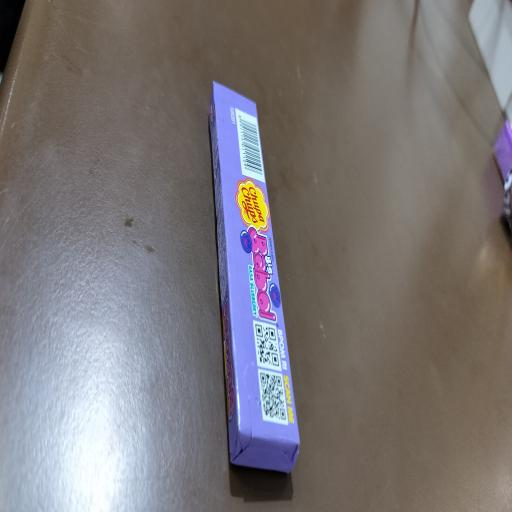chocolate: (212, 84, 298, 448)
chupa-chups: (242, 177, 266, 225)
